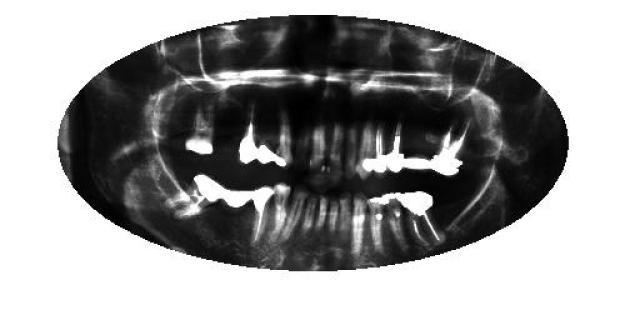Fillings: (168, 172, 228, 222), (382, 189, 402, 245), (355, 124, 373, 180), (258, 120, 278, 164), (403, 142, 432, 170), (368, 195, 383, 247), (278, 112, 292, 166), (225, 188, 254, 212)
Implant: (400, 190, 445, 245), (430, 118, 471, 176), (384, 116, 408, 175), (253, 185, 275, 240), (240, 102, 258, 166), (371, 123, 389, 175)
